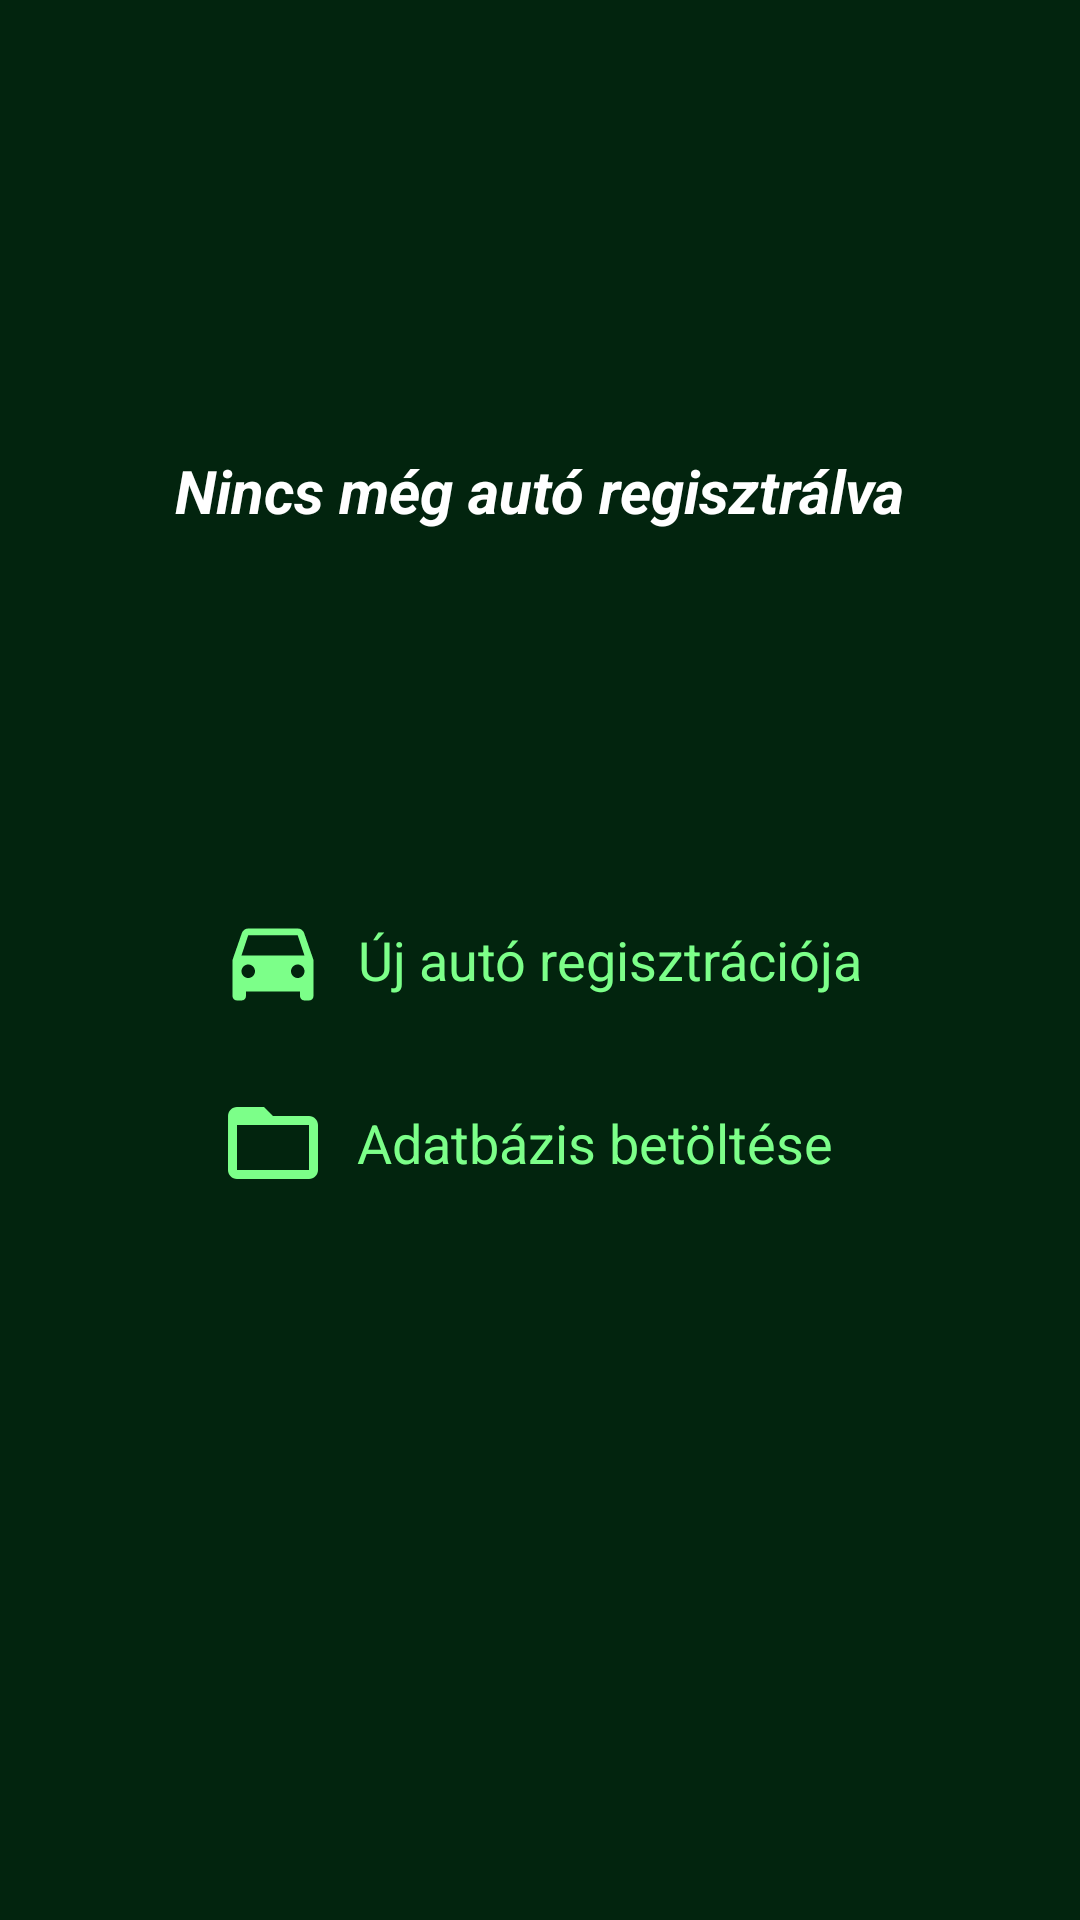

Named icons in this screenshot (1080px×1920px) and their centers, [x,y]:
directions car: [273,964]
folder open: [273,1143]
